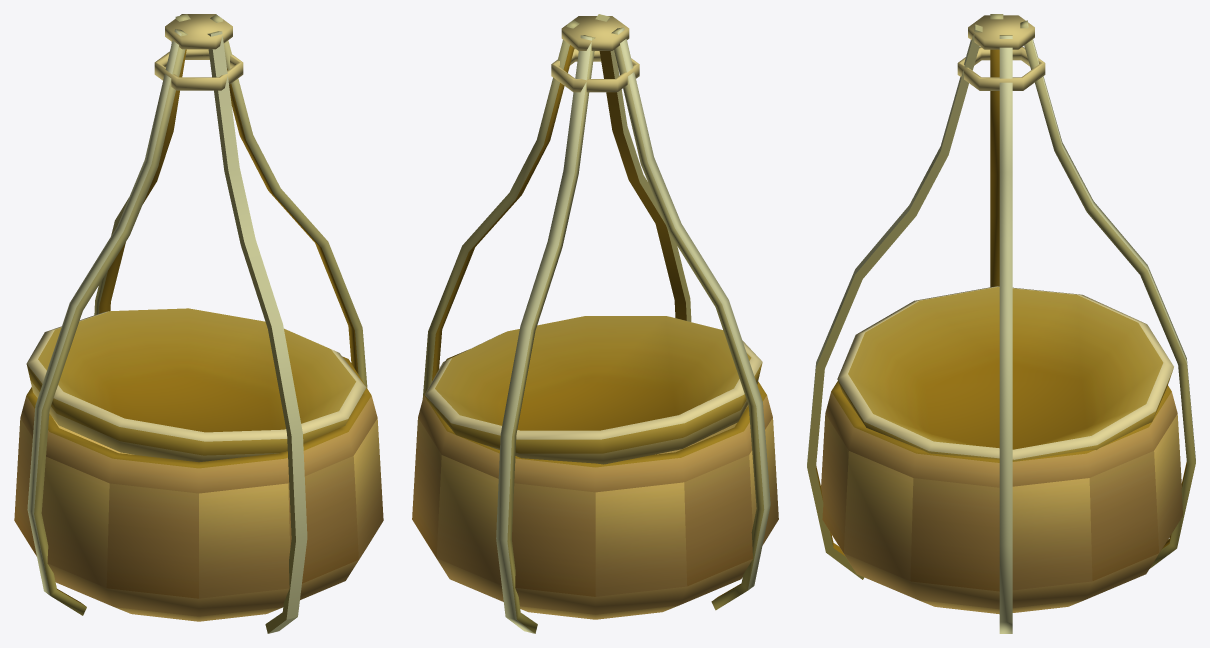
Rendered from SM_MarketBasket_02.fbx.
The picture shows the model from 3 angles, left to right: view 1: azimuth 30°, elevation 25°; view 2: azimuth 150°, elevation 25°; view 3: azimuth 270°, elevation 25°; orthographic projection.
Parts seen in each view (by area): view 1: SM_MarketBasket_02; view 2: SM_MarketBasket_02; view 3: SM_MarketBasket_02.
Part boxes in pixels (left/top/right/bottom): SM_MarketBasket_02: left=14, top=14, right=383, bottom=633; SM_MarketBasket_02: left=412, top=14, right=778, bottom=633; SM_MarketBasket_02: left=807, top=14, right=1195, bottom=633.
Bounding box in the file's own units: 0.7919 × 1.24 × 0.7919.
